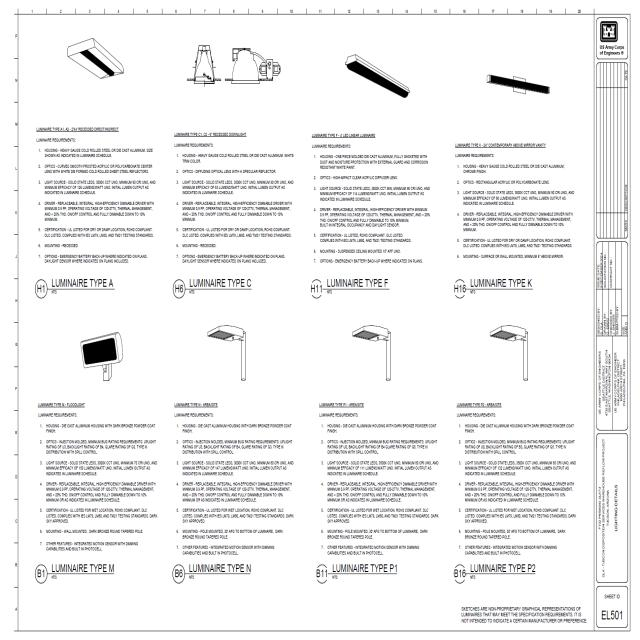Emergency Light: (286, 298, 458, 408), (154, 20, 284, 139), (293, 40, 440, 137), (30, 299, 154, 412), (21, 25, 130, 136), (163, 303, 267, 412), (446, 61, 566, 155), (486, 324, 594, 386)
